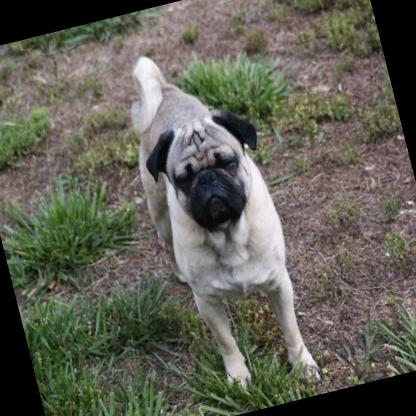pug: (110, 30, 324, 412)
